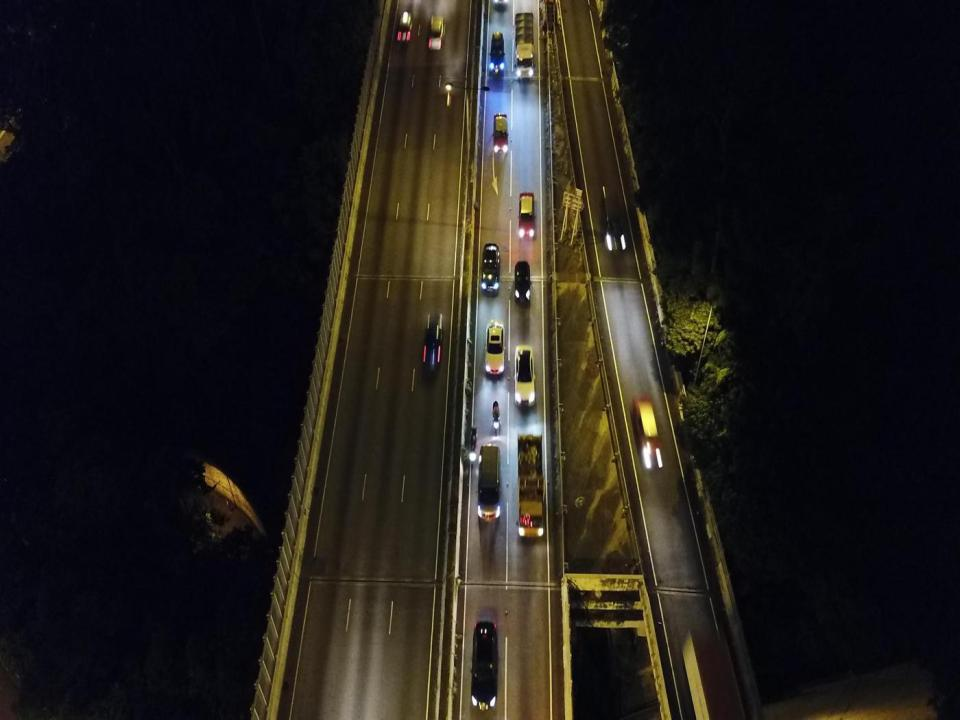car: (469, 620, 499, 710), (631, 393, 664, 470), (599, 185, 627, 252), (514, 342, 536, 408), (484, 319, 506, 375), (480, 241, 502, 297), (422, 324, 443, 376), (517, 191, 536, 241), (514, 260, 532, 304), (489, 30, 505, 75), (427, 14, 446, 50), (492, 114, 509, 154), (397, 10, 413, 43)
truck: (517, 434, 547, 539), (514, 12, 536, 81)
van: (477, 444, 503, 523)
